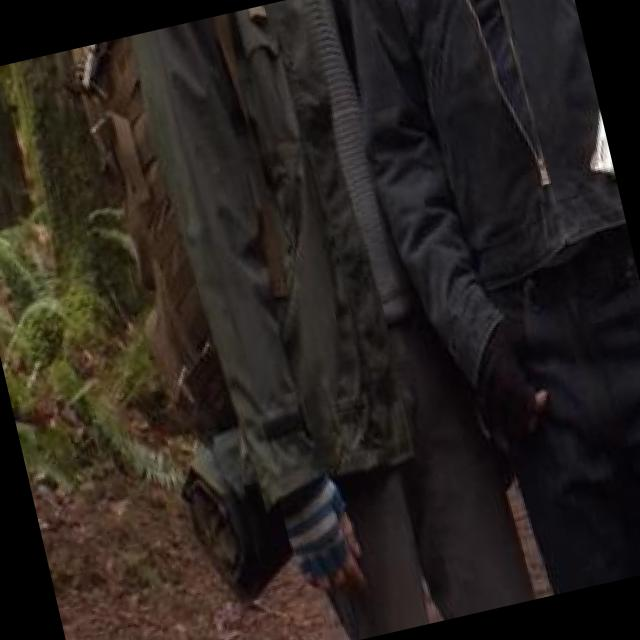Guns: (497, 0, 620, 213)
